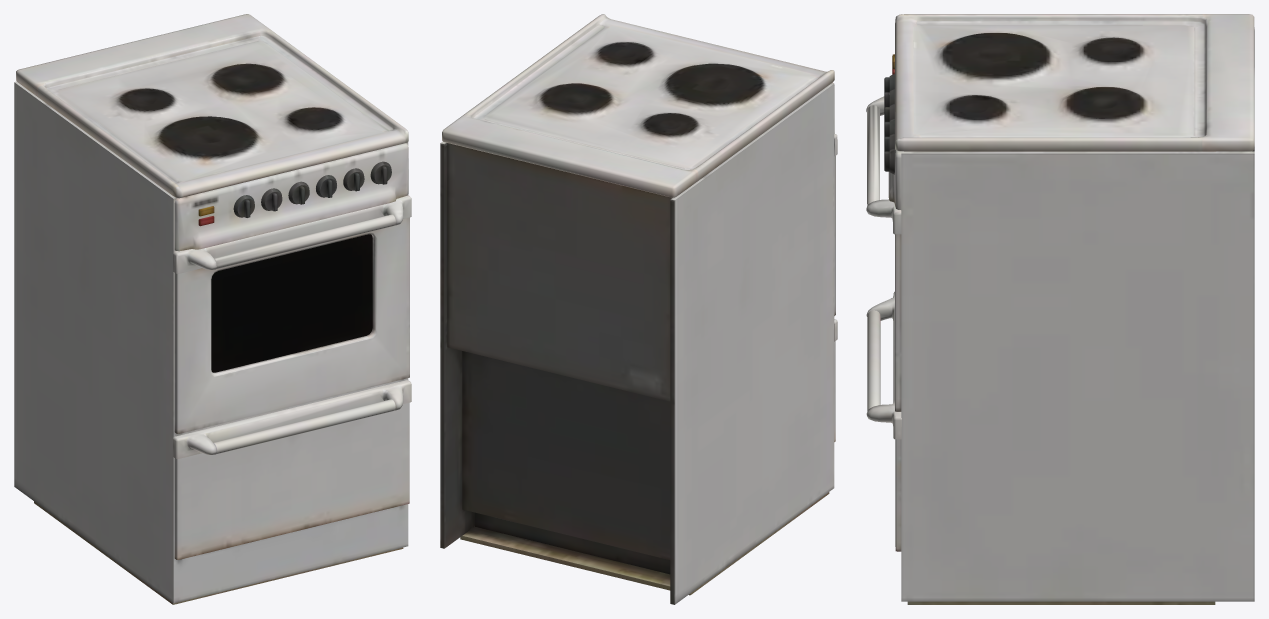
File: electric_stove.glb
3 views of the same model, side by side, from view 1: azimuth 30°, elevation 25°; view 2: azimuth 150°, elevation 25°; view 3: azimuth 270°, elevation 25° (orthographic). The views are drawn at different scales.
Parts seen in each view (by area): view 1: stovetop, door_top; view 2: stovetop; view 3: stovetop.
Part boxes in pixels (x1=…): stovetop: x1=14, y1=14, x2=411, y2=604; door_top: x1=211, y1=234, x2=372, y2=372; stovetop: x1=440, y1=14, x2=837, y2=604; stovetop: x1=866, y1=14, x2=1254, y2=604.
Bounding box in the file's own units: 0.5026 × 0.8587 × 0.6477.
Materials: 2 (2 with a texture image).
